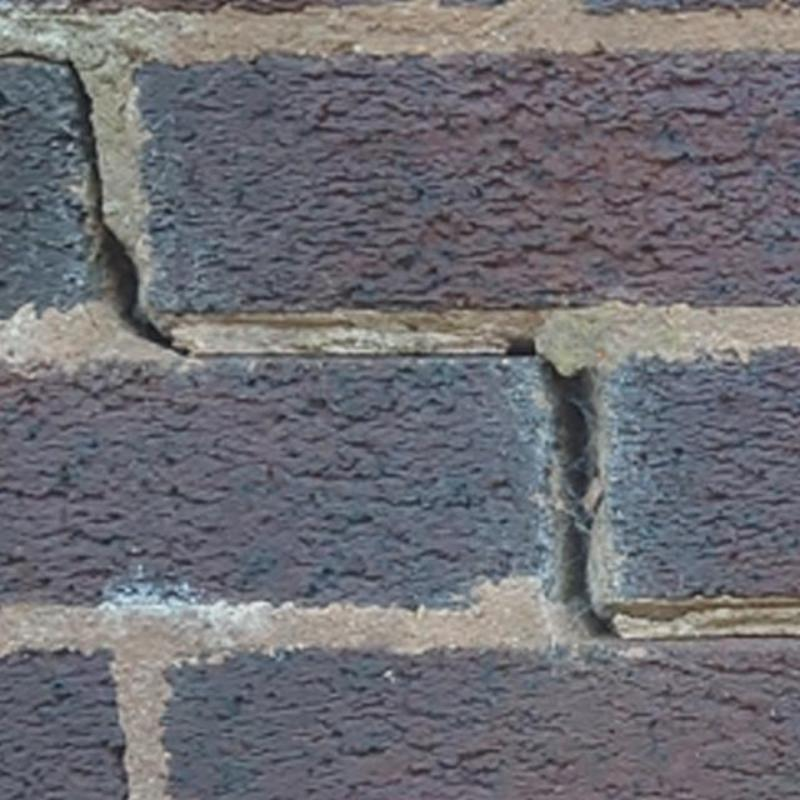pothole: (502, 342, 620, 647), (0, 48, 106, 222), (94, 226, 199, 359), (200, 349, 505, 361)
